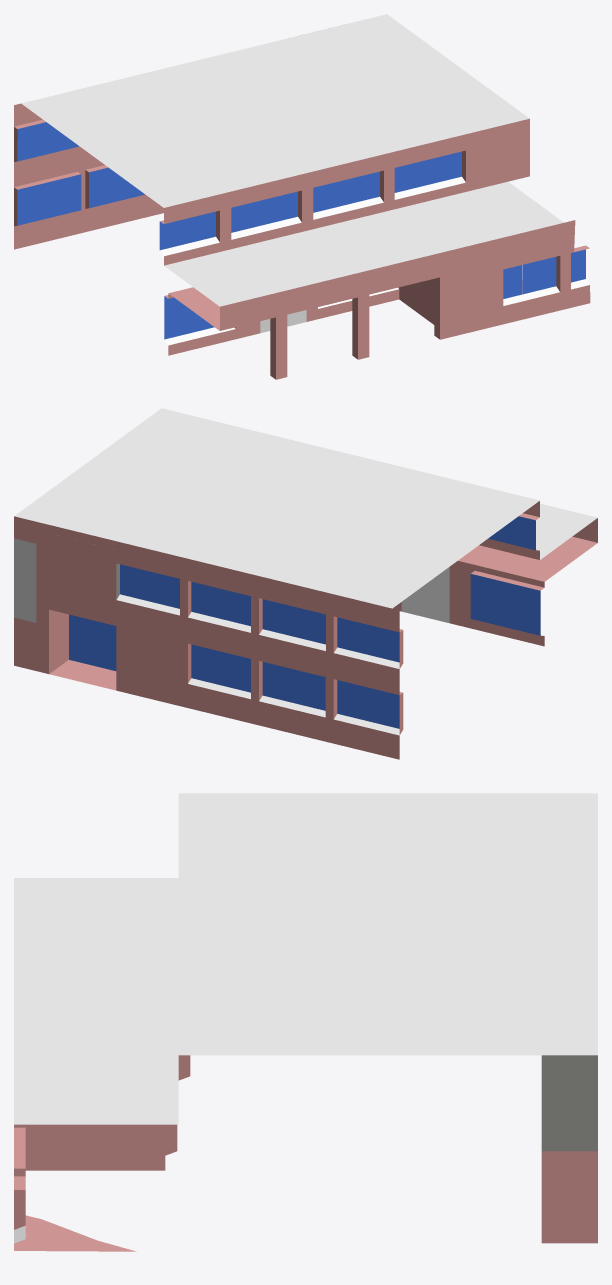
File: seisangizyutu.glb
3 views of the same model, one above another, from view 1: azimuth 30°, elevation 25°; view 2: azimuth 150°, elevation 25°; view 3: azimuth 270°, elevation 25° (orthographic). The views are drawn at different scales.
Visible parts, largest first — view 1: 真ん中; view 2: 真ん中; view 3: 真ん中.
Boxes of the visible parts, box(x1,y1,x2,y2) form: 真ん中: box(14, 14, 590, 379); 真ん中: box(14, 408, 597, 759); 真ん中: box(14, 793, 597, 1251).
Size of the model in its own units: 7.66 by 2.75 by 6.86.
Materials: 1 (1 with a texture image).
